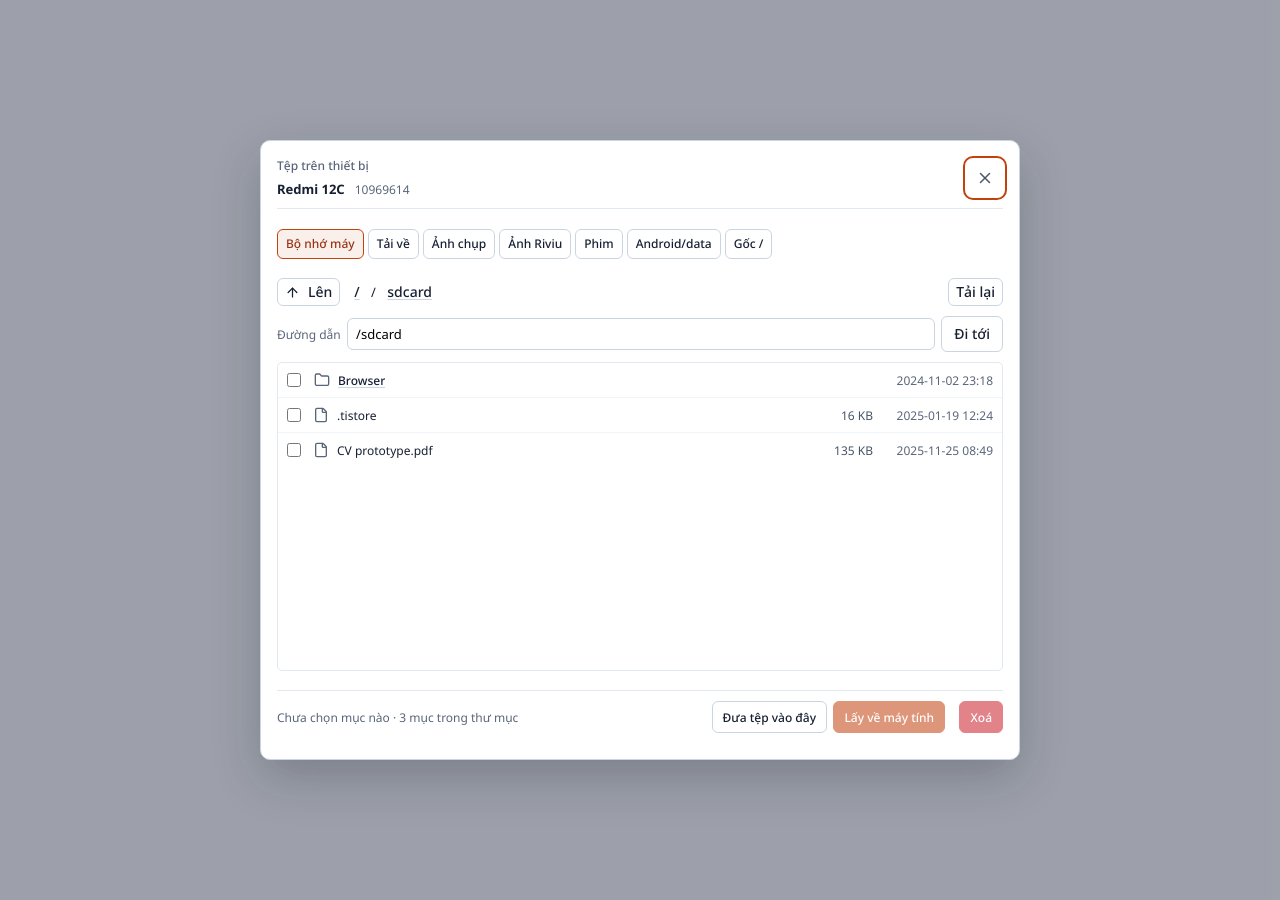
Test: DeviceFilesPopup › drops a listing for a path it has already navigated away from
Expected: the text "Browser" is shown, top-left (338, 372), bottom-right (385, 389)
Into the folder, whose answer is held back...
Step 1. Click the button "Browser" → (362, 380), box top-left (313, 366), bottom-right (800, 394)
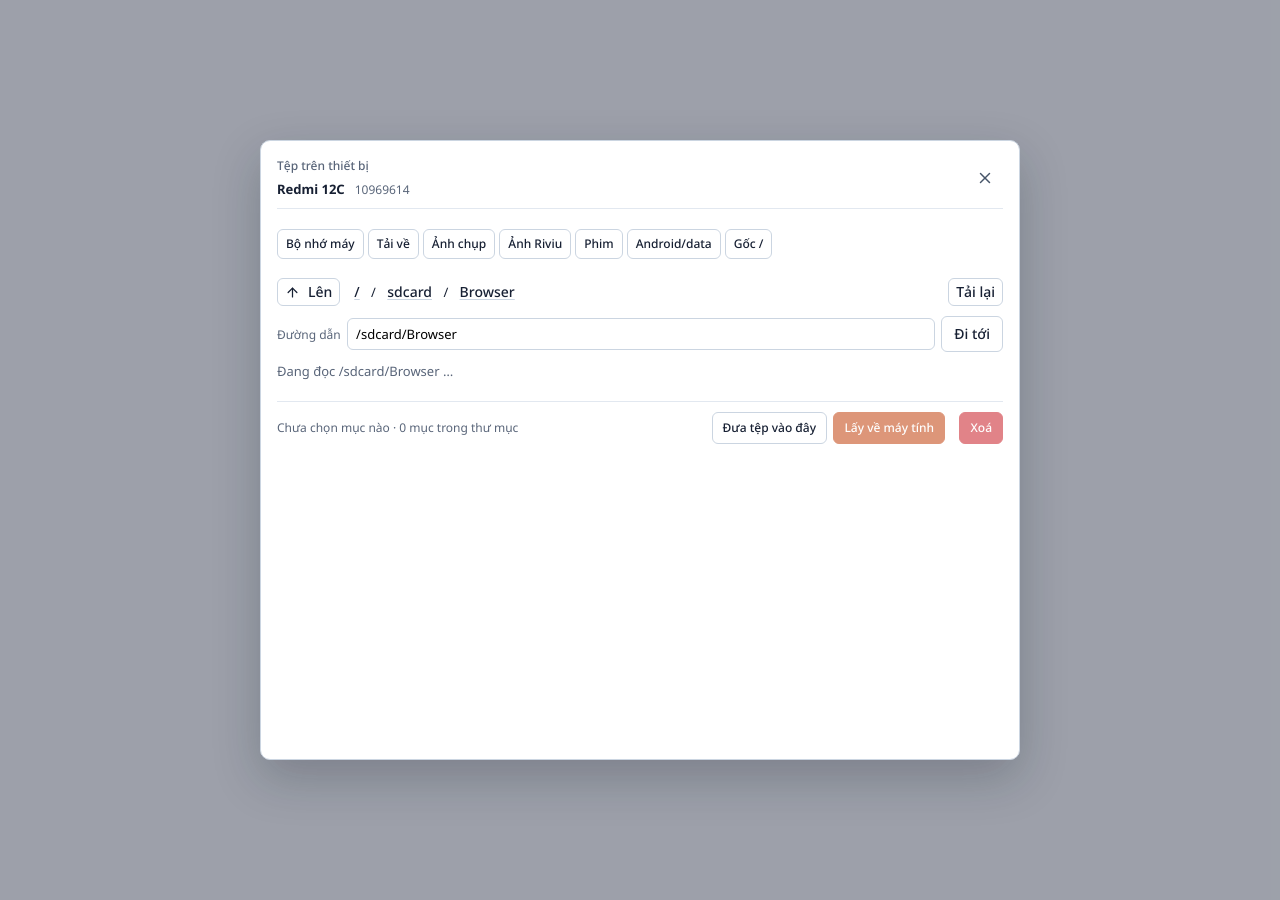
...and back out again before it arrives.
Step 2. Click the button "Lên" → (309, 292), box top-left (277, 278), bottom-right (340, 306)
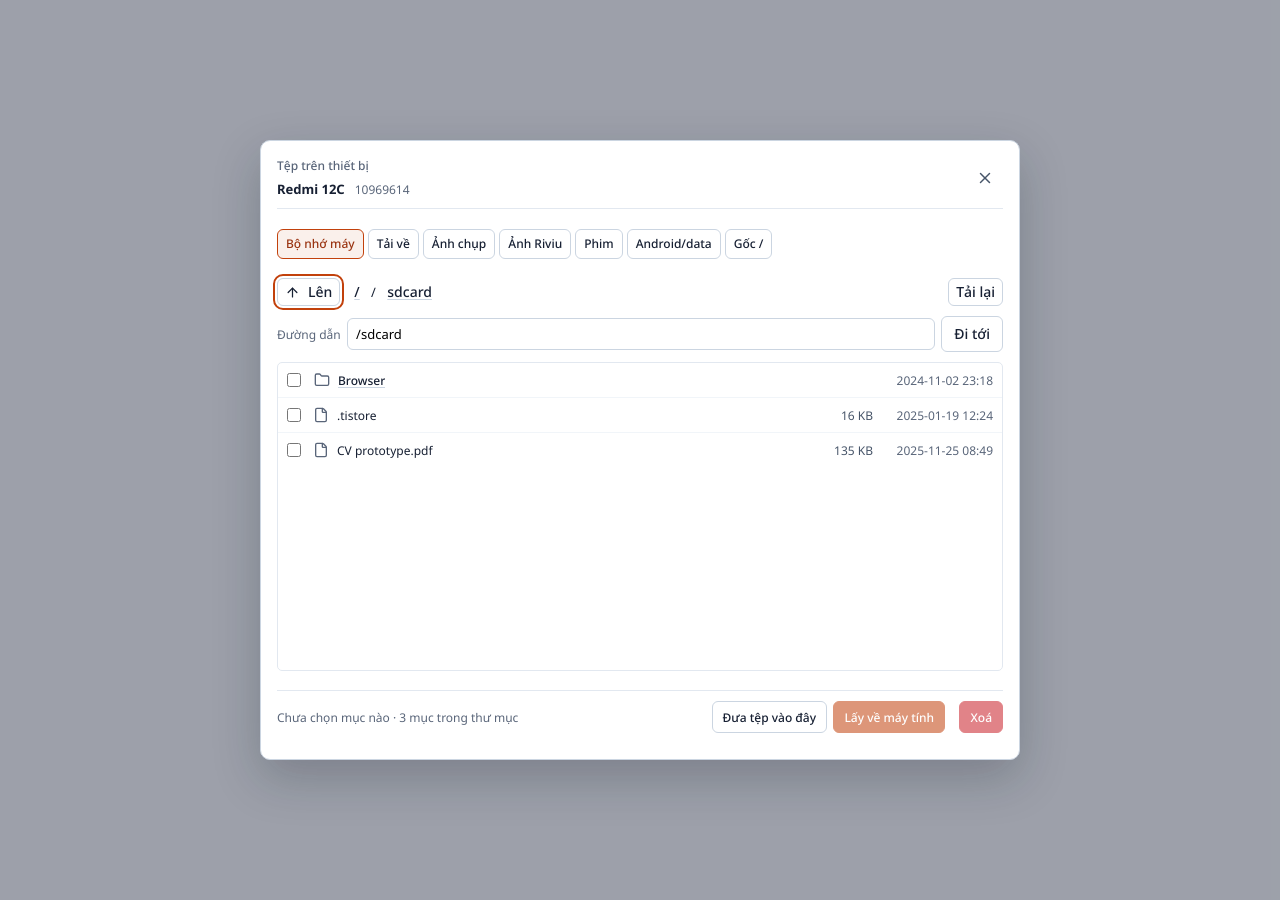
Result: the text "CV prototype.pdf" is shown at top-left (337, 442), bottom-right (433, 459)
